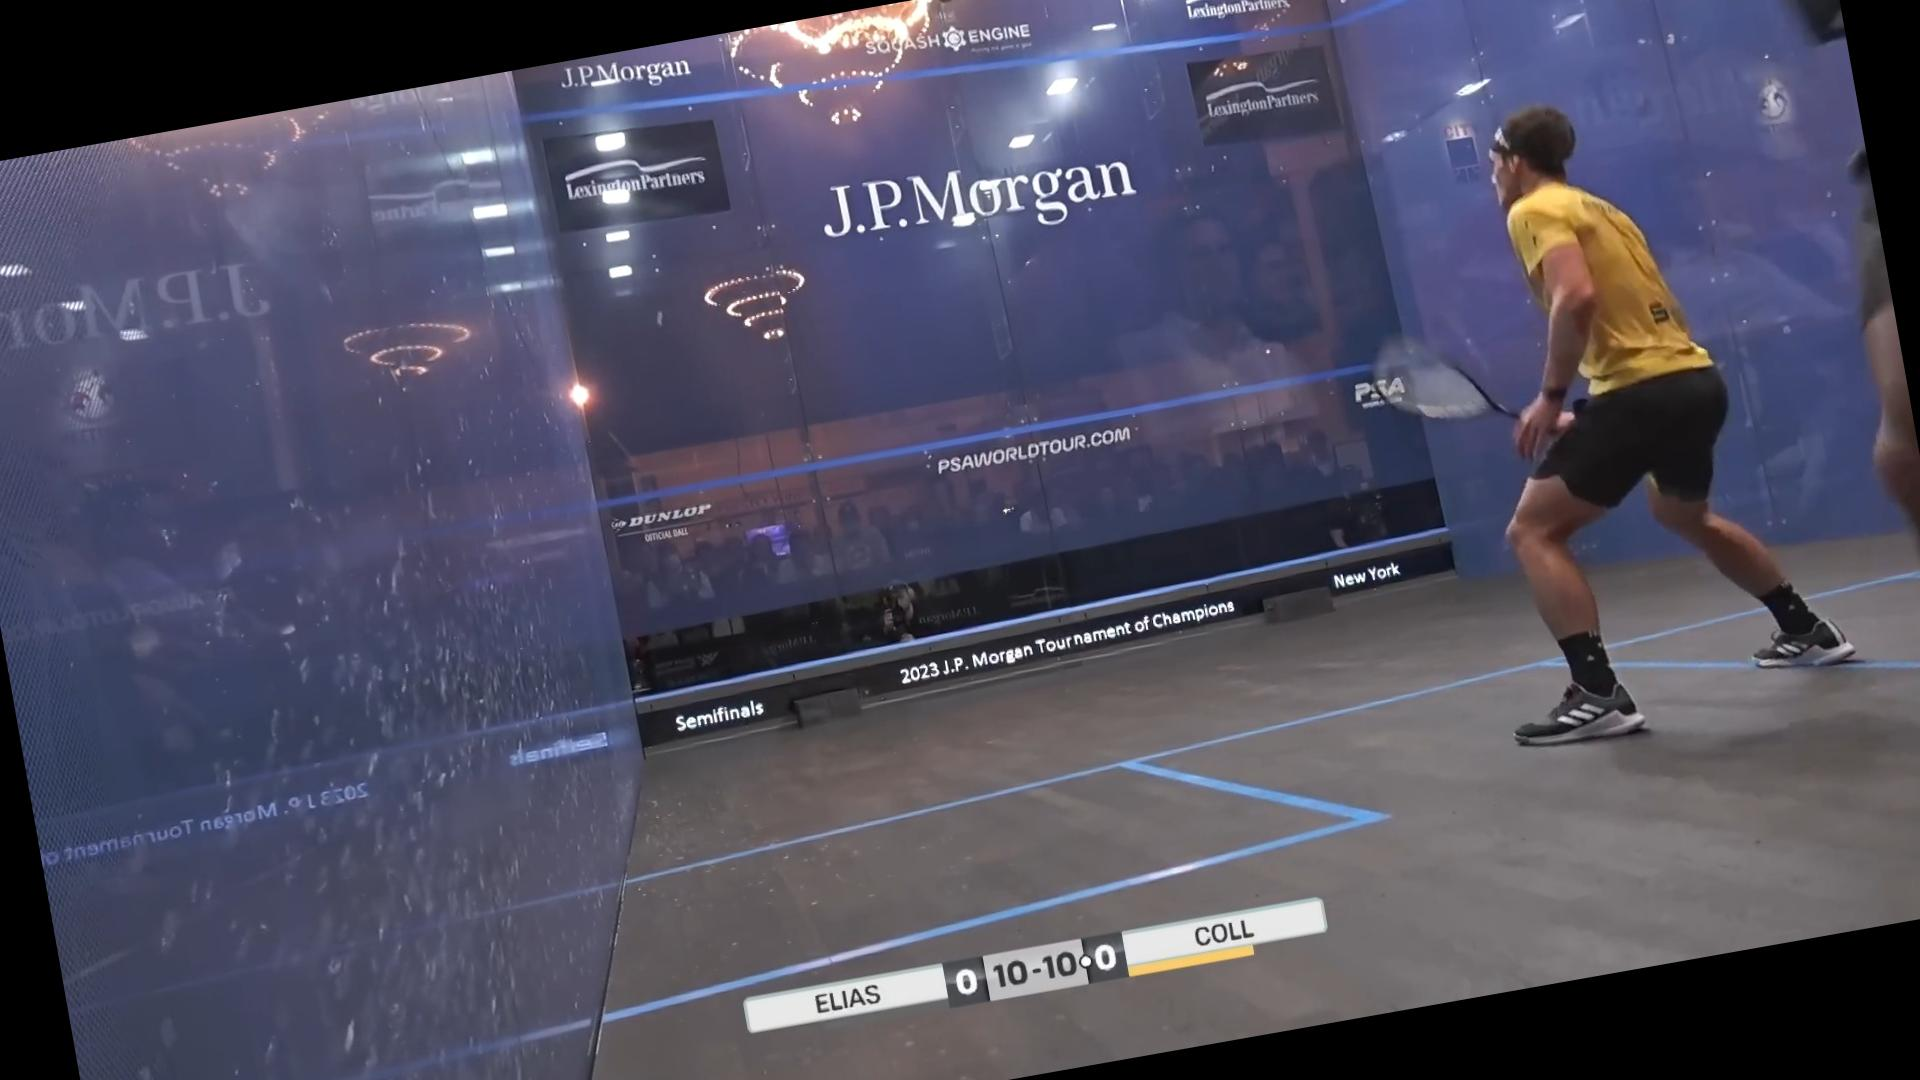Racket: (1360, 305, 1540, 452)
